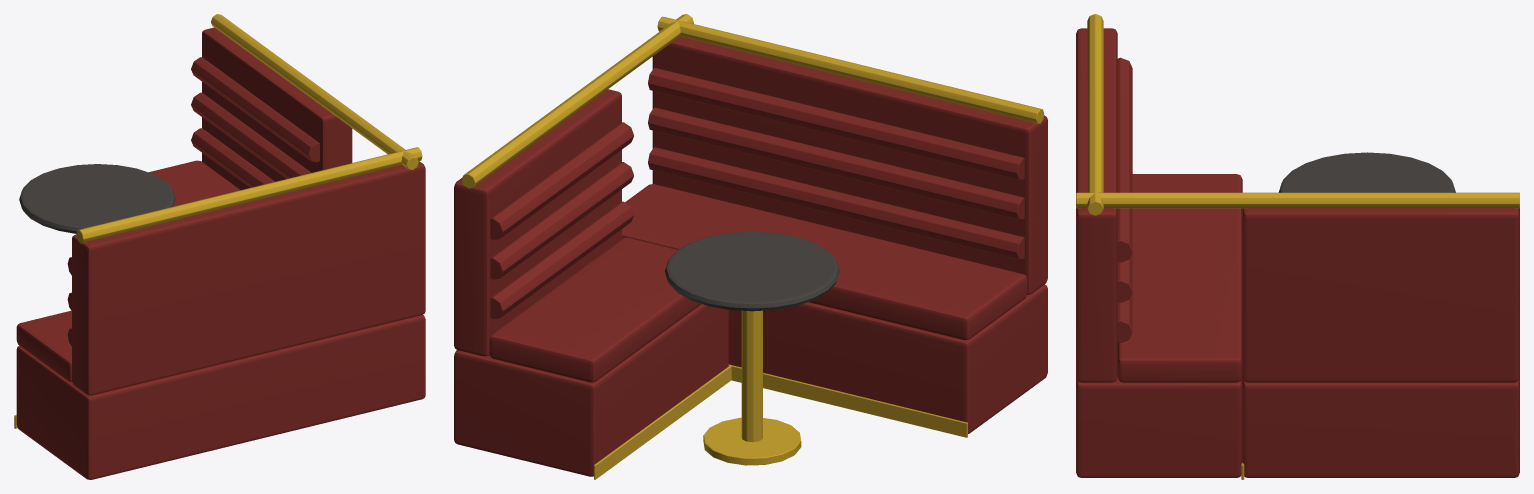
Rendered from prop_ah_booth_corner.glb.
3 views of the same model, side by side, from view 1: azimuth 30°, elevation 25°; view 2: azimuth 150°, elevation 25°; view 3: azimuth 270°, elevation 25° (orthographic). The views are drawn at different scales.
Visible parts, largest first — view 1: Body; view 2: Body; view 3: Body.
Boxes of the visible parts, x1,y1,x2,y2 form: Body: (14,14,425,479); Body: (454,14,1047,479); Body: (1076,14,1519,479).
Bounding box in the file's own units: 1.6 × 1.11 × 1.6.
